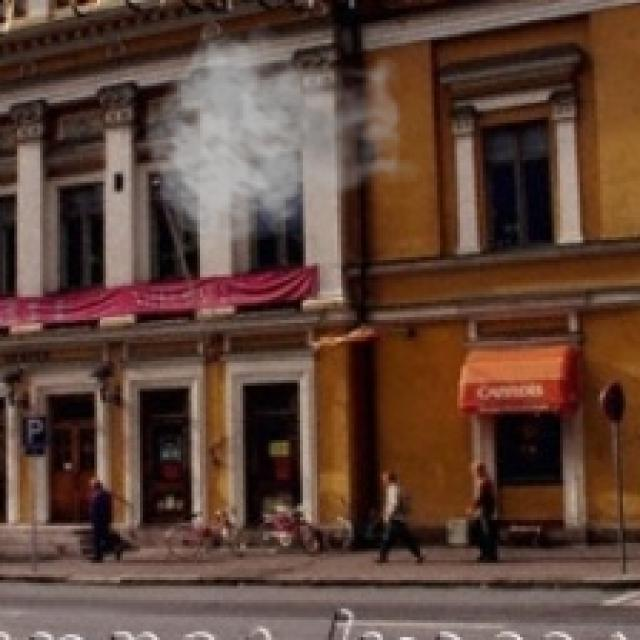smoke: (143, 14, 423, 254)
